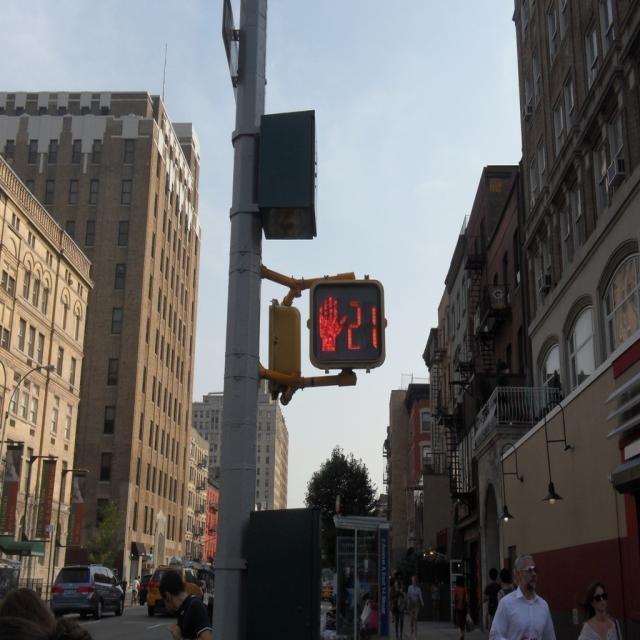traffic light: (309, 280, 385, 374)
